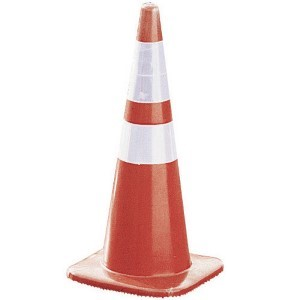traffic cone: (67, 2, 223, 297)
